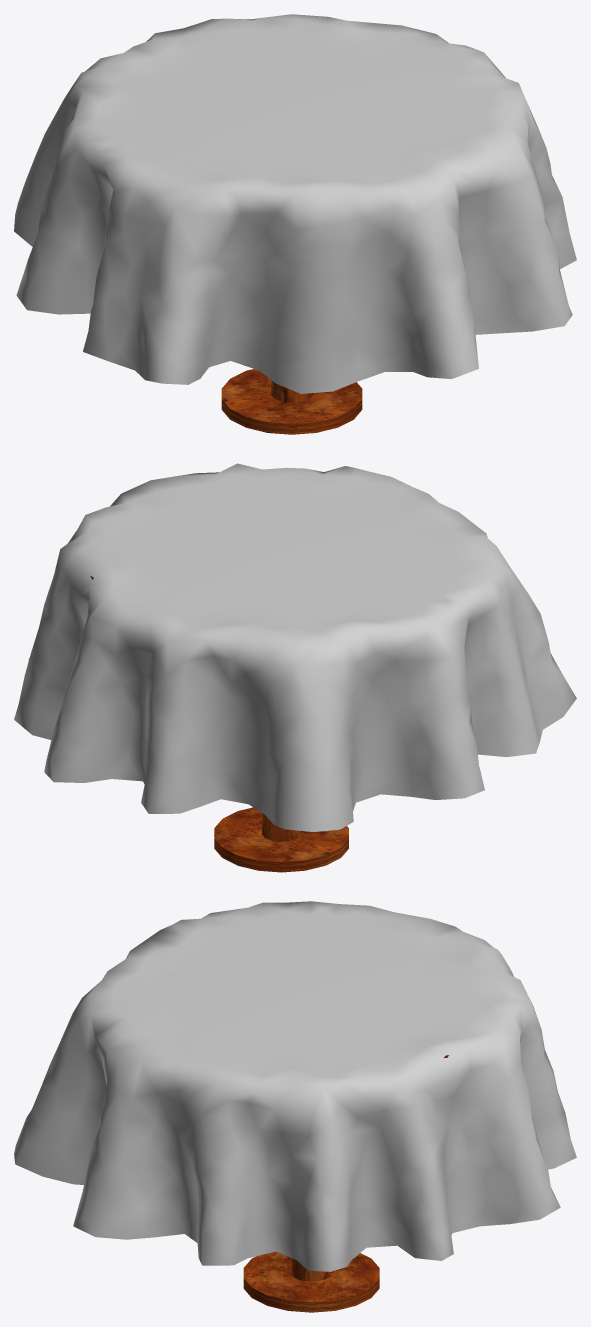
The model's file is Table with cloth.FBX.
The picture shows the model from 3 angles, top to bottom: view 1: azimuth 30°, elevation 25°; view 2: azimuth 150°, elevation 25°; view 3: azimuth 270°, elevation 25°; orthographic projection. The views are drawn at different scales.
Parts seen in each view (by area): view 1: Circle001, Cylinder001; view 2: Circle001, Cylinder001, Cylinder002; view 3: Circle001, Cylinder001.
Part boxes in pixels (left/top/right/bottom): Circle001: left=14, top=14, right=576, bottom=393; Cylinder001: left=221, top=369, right=362, bottom=434; Circle001: left=14, top=463, right=576, bottom=831; Cylinder001: left=214, top=807, right=348, bottom=872; Cylinder002: left=262, top=813, right=301, bottom=841; Circle001: left=14, top=901, right=576, bottom=1271; Cylinder001: left=243, top=1251, right=379, bottom=1312.
Size of the model in its own units: 77.4 by 45.76 by 79.1.
